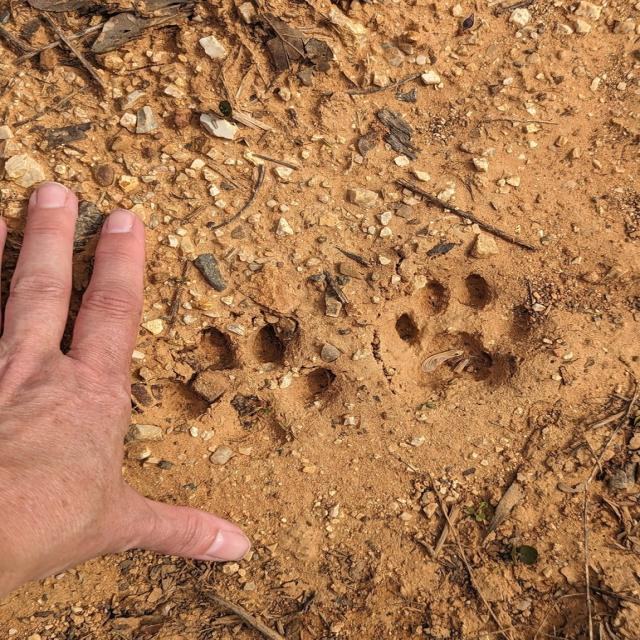felid: (172, 328, 328, 448), (396, 275, 530, 385)
